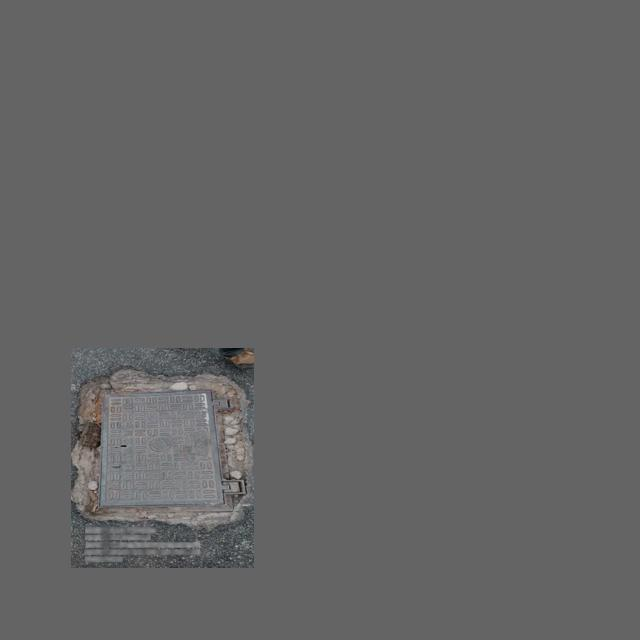circle: (80, 380, 248, 521)
